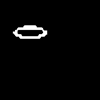chain: (13, 26, 46, 38)
